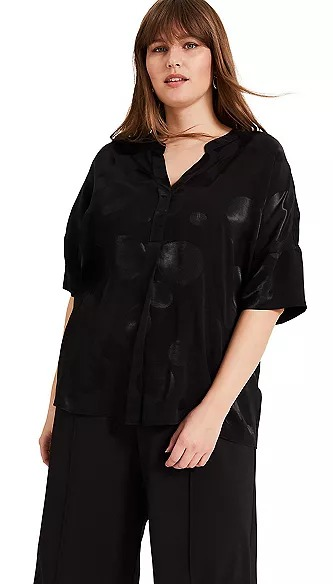C_short blouse: (52, 125, 312, 445)
